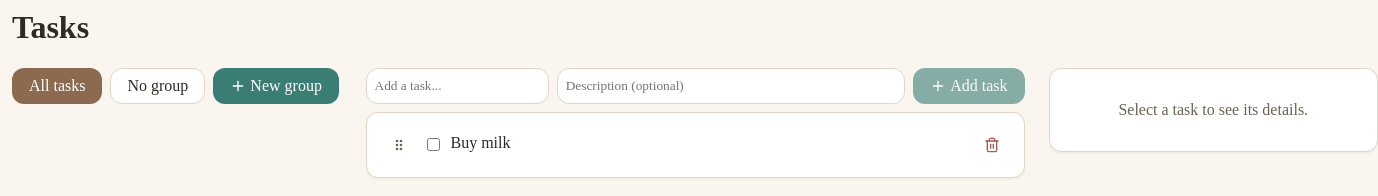
Scenario: TasksPage › deletes a task via its row's delete button without a confirmation prompt
Expected: the link "Buy milk" is shown, [450, 134, 510, 152]
Click the button named "Delete \"Buy milk\"".
click(992, 145)  # box [976, 129, 1008, 161]
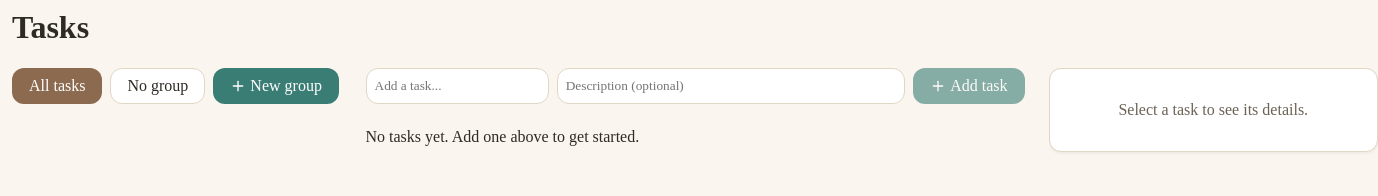
Result: the link "Buy milk" is gone
